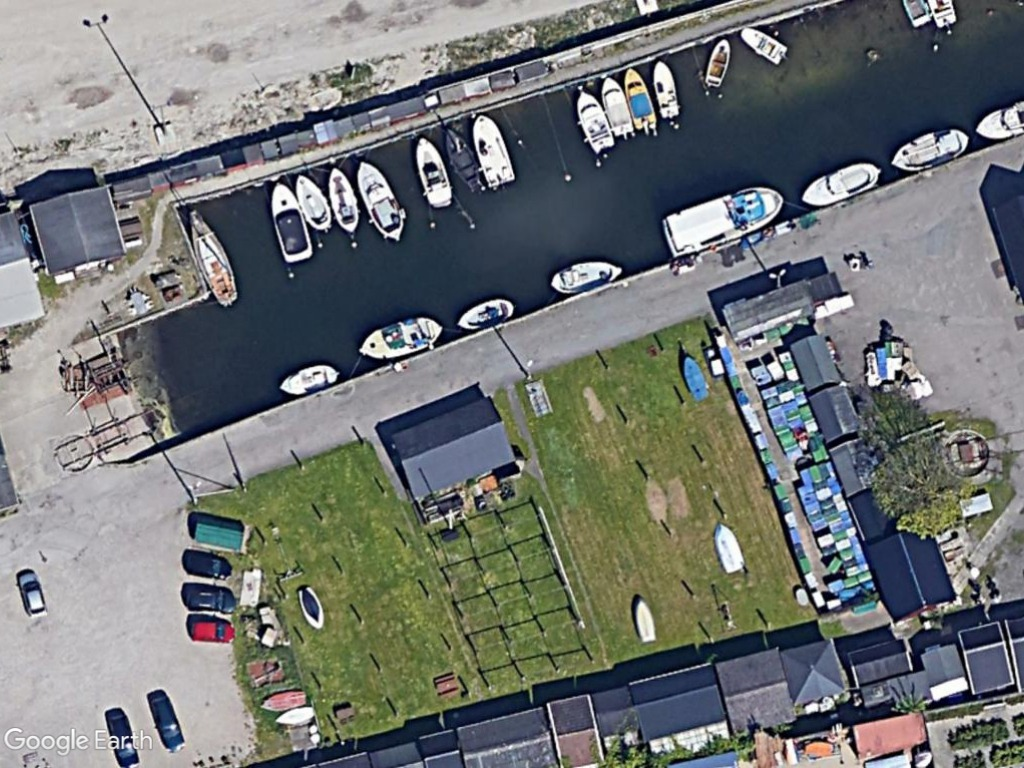boat: (659, 182, 788, 260), (188, 205, 241, 311), (354, 152, 407, 245), (356, 310, 444, 365), (266, 177, 318, 267), (888, 126, 976, 175), (798, 158, 883, 207), (544, 252, 626, 302), (470, 109, 518, 192), (410, 131, 459, 212), (569, 86, 617, 157), (619, 62, 662, 133), (323, 161, 363, 236), (276, 360, 343, 404), (734, 20, 792, 67), (292, 171, 333, 237), (455, 294, 517, 336), (601, 71, 638, 141), (709, 517, 749, 578), (651, 56, 685, 123), (678, 348, 714, 406), (295, 579, 331, 635), (702, 33, 737, 88), (630, 593, 659, 649)
car: (146, 688, 189, 756), (178, 578, 240, 618), (178, 544, 236, 586), (15, 567, 54, 625), (185, 613, 240, 649)
